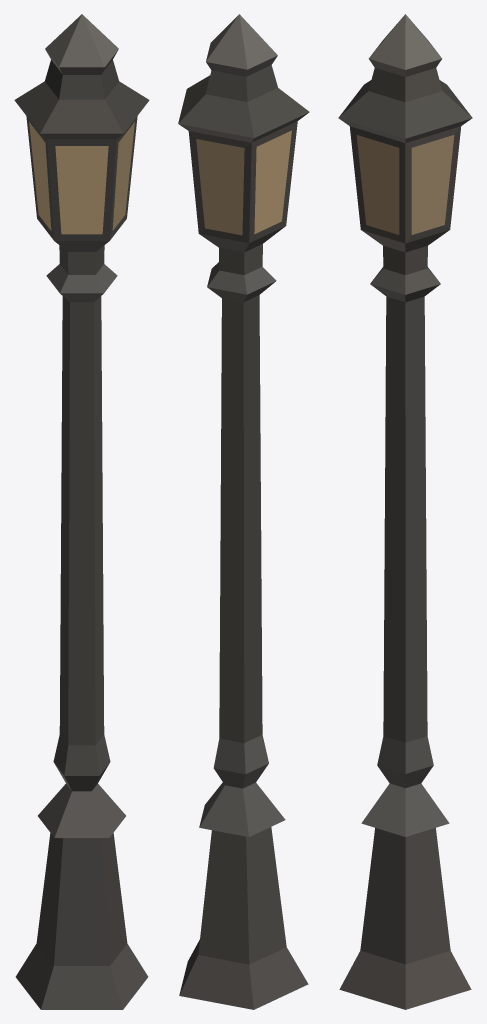
Rendered from StreetLamp-Lit_A.fbx.
3 renders of one model, left to right at view 1: azimuth 90°, elevation 25°; view 2: azimuth 210°, elevation 25°; view 3: azimuth 270°, elevation 25°, orthographic.
Visible parts, largest first — view 1: StreetLamp-Lit_A; view 2: StreetLamp-Lit_A; view 3: StreetLamp-Lit_A.
Part boxes in pixels (x1,y1,x2,y2): StreetLamp-Lit_A: (14,14,149,1009); StreetLamp-Lit_A: (178,14,309,1009); StreetLamp-Lit_A: (338,14,472,1009).
Size of the model in its own units: 38.14 by 318 by 40.1.
